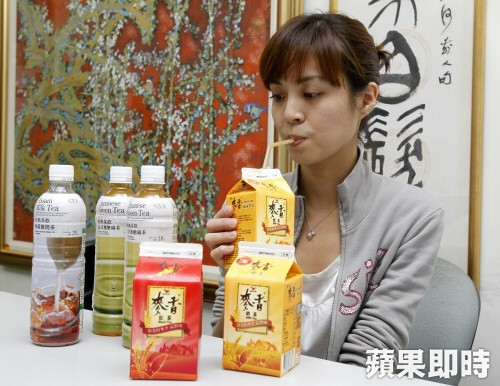milk tea: (225, 279, 284, 375), (257, 191, 294, 245)
